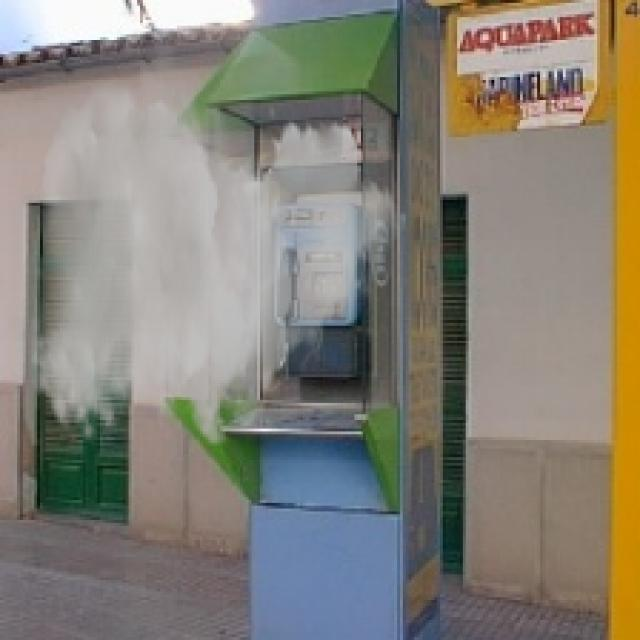smoke: (29, 31, 408, 448)
